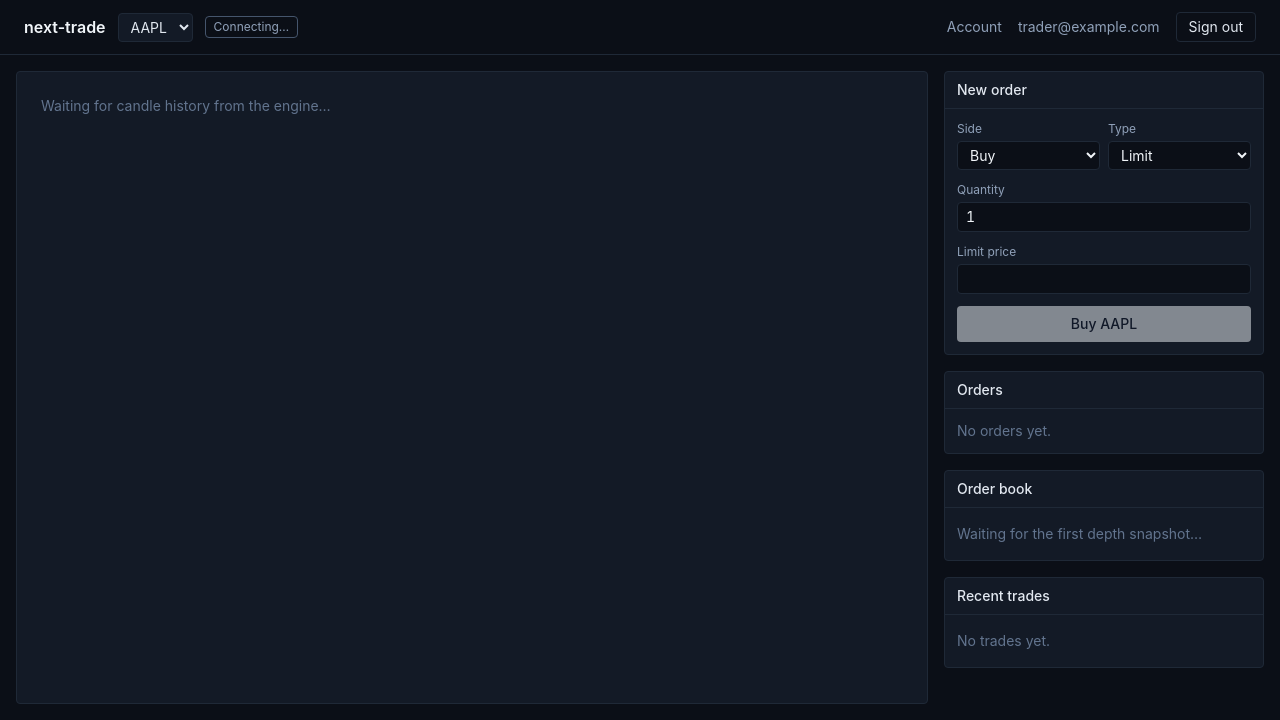
login screen › returns the user to login after signing out
expect the heading "Order book" is shown: met, box [945, 471, 1263, 508]
Click the button "Sign out": point(1216, 27) [1176, 12, 1256, 42]
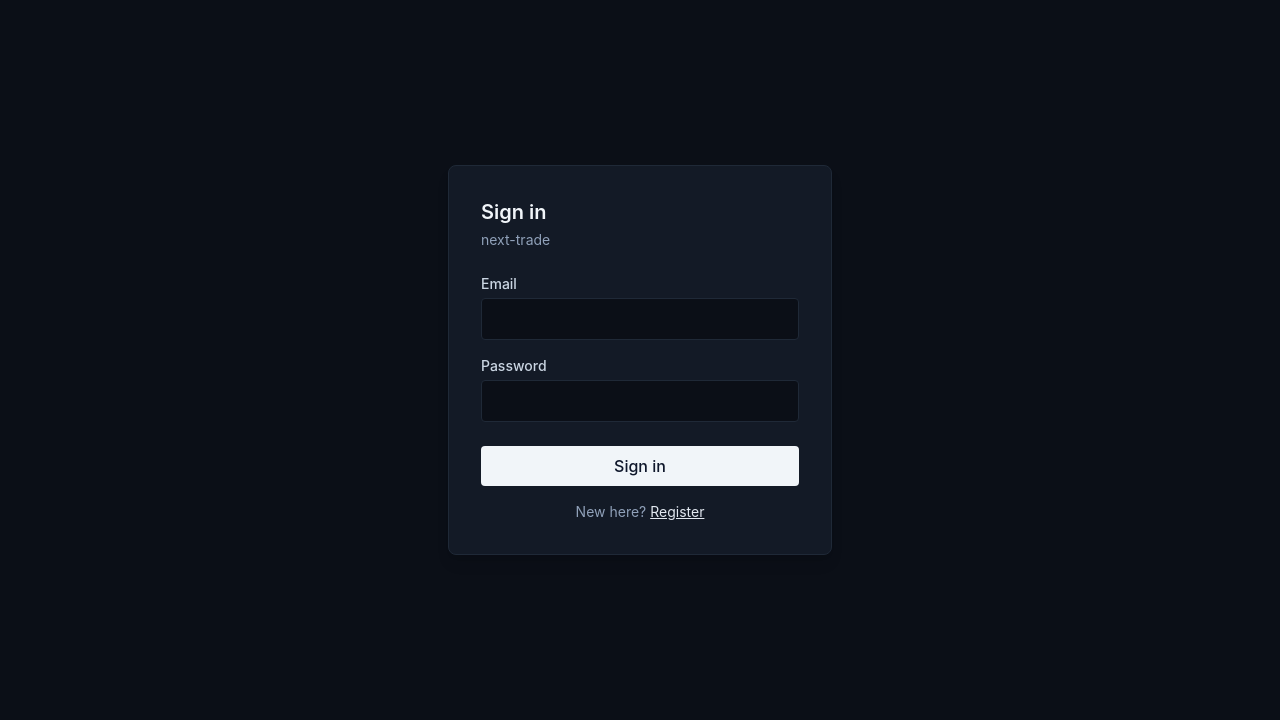
expect the heading "Sign in" is shown: met, box [481, 200, 546, 224]
